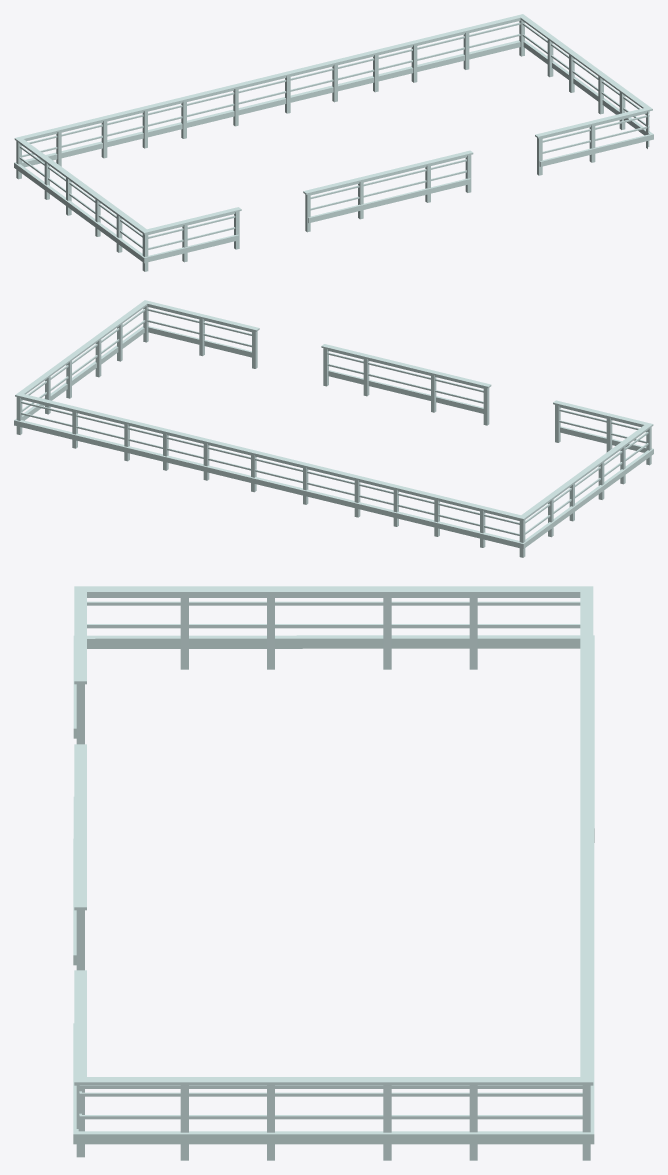
The model's file is Testhouse_Foundation_FenceLarge_VAR1.fbx.
The picture shows the model from 3 angles, top to bottom: view 1: azimuth 30°, elevation 25°; view 2: azimuth 150°, elevation 25°; view 3: azimuth 270°, elevation 25°; orthographic projection. The views are drawn at different scales.
Parts seen in each view (by area): view 1: Testhouse_Foundation_FenceLarge.001; view 2: Testhouse_Foundation_FenceLarge.001; view 3: Testhouse_Foundation_FenceLarge.001.
Boxes of the visible parts, left/top/right/bottom form: Testhouse_Foundation_FenceLarge.001: left=14, top=14, right=653, bottom=271; Testhouse_Foundation_FenceLarge.001: left=14, top=300, right=653, bottom=557; Testhouse_Foundation_FenceLarge.001: left=73, top=586, right=594, bottom=1160.
Bounding box in the file's own units: 559 × 248 × 41.5.
